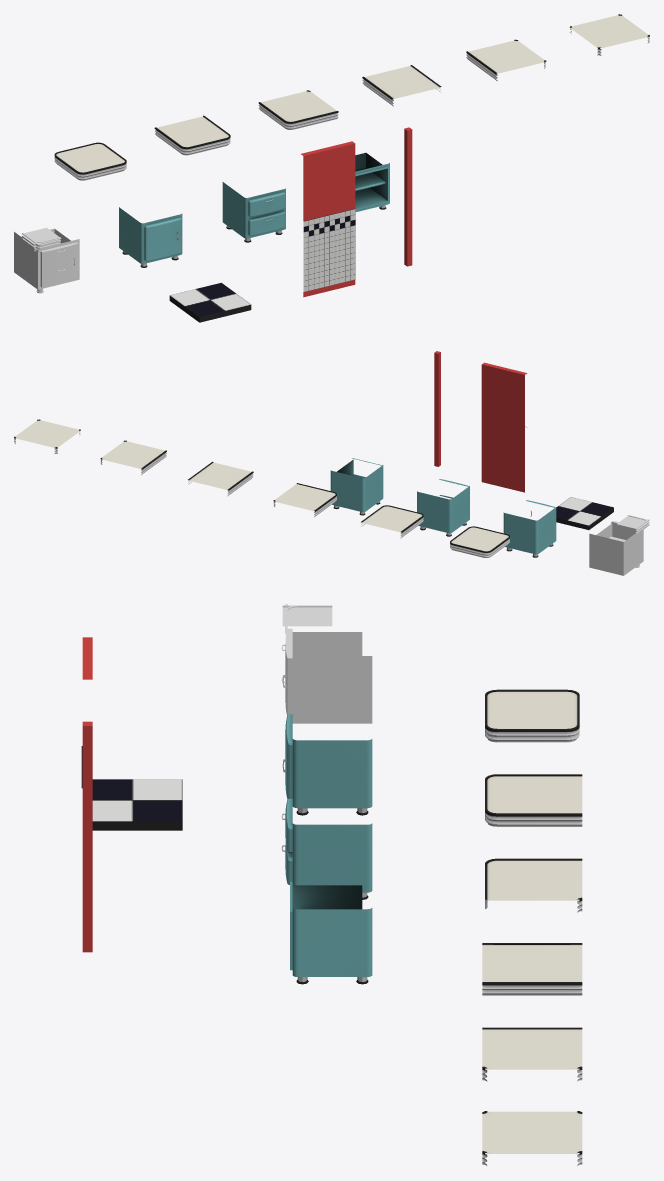
The model's file is general.glb.
3 renders of one model, top to bottom at view 1: azimuth 30°, elevation 25°; view 2: azimuth 150°, elevation 25°; view 3: azimuth 270°, elevation 25°, orthographic. The views are drawn at different scales.
Visible parts, largest first — view 1: Wall, BaseCabinet, BaseDrawers, CountertopL, Floor, CountertopU, CountertopO, BaseShelf, CountertopT, CountertopI, CountertopX, BaseCabinetDoor-noimp (+3 smaller); view 2: Wall, BaseShelf, BaseCabinet, BaseDrawers, BaseBody-noimp, CountertopO, Floor, CountertopT, CountertopI, CountertopL, CountertopU, CountertopX (+1 smaller); view 3: BaseShelf, BaseCabinet, BaseDrawers, BaseBody-noimp, CountertopI, CountertopU, CountertopO, Floor, CountertopT, CountertopX, CountertopL, Cube (+2 smaller).
Boxes of the visible parts, x1,y1,x2,y2 form: Wall: (301, 141, 355, 297); BaseCabinet: (119, 207, 182, 267); BaseDrawers: (222, 182, 285, 242); CountertopL: (258, 90, 338, 129); Floor: (169, 282, 251, 322); CountertopU: (154, 115, 230, 155); CountertopO: (54, 142, 126, 180); BaseShelf: (355, 152, 389, 211); CountertopT: (466, 39, 546, 80); CountertopI: (362, 65, 441, 106); CountertopX: (570, 14, 649, 55); BaseCabinetDoor-noimp: (40, 242, 78, 287); Wall: (481, 362, 527, 492); BaseShelf: (330, 458, 383, 515); BaseCabinet: (503, 500, 556, 557); BaseDrawers: (417, 479, 469, 536); BaseBody-noimp: (589, 530, 643, 575); CountertopO: (450, 526, 509, 557); Floor: (556, 497, 613, 529); CountertopT: (100, 440, 166, 474); CountertopI: (188, 461, 253, 496); CountertopL: (273, 483, 336, 517); CountertopU: (361, 505, 423, 538); CountertopX: (14, 419, 80, 453); BaseShelf: (290, 882, 372, 984); BaseCabinet: (282, 714, 372, 815); BaseDrawers: (281, 798, 372, 899); BaseBody-noimp: (292, 656, 372, 723); CountertopI: (482, 943, 582, 995); CountertopU: (485, 774, 582, 826); CountertopO: (485, 689, 579, 742); Floor: (92, 779, 182, 830); CountertopT: (482, 1027, 582, 1081); CountertopX: (482, 1111, 582, 1165); CountertopL: (485, 858, 582, 912); Cube: (82, 721, 92, 952).
Size of the model in its own units: 13 by 2.6 by 5.01.
Materials: 12 (11 with a texture image).
